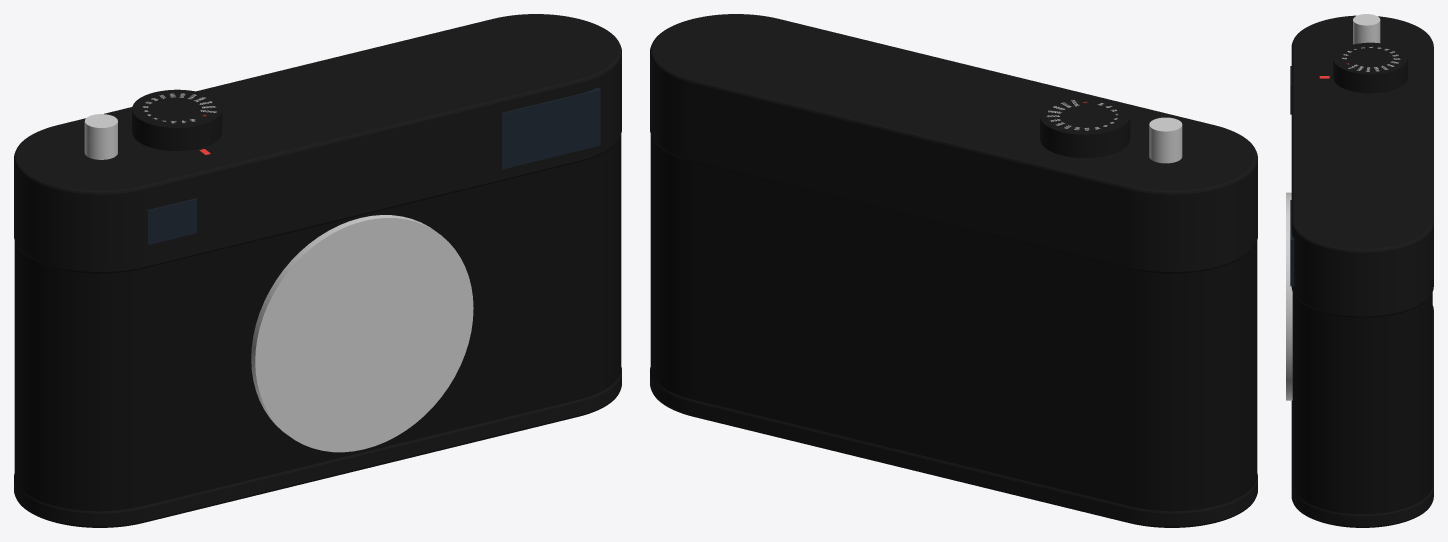
Rendered from body-m11.glb.
3 renders of one model, left to right at view 1: azimuth 30°, elevation 25°; view 2: azimuth 150°, elevation 25°; view 3: azimuth 270°, elevation 25°, orthographic. The views are drawn at different scales.
Visible parts, largest first — view 1: body, shutter-dial; view 2: body, shutter-dial; view 3: body, shutter-dial.
Part boxes in pixels (x1=…): body: x1=14, y1=14, x2=621, y2=527; shutter-dial: x1=132, y1=89, x2=222, y2=151; body: x1=650, y1=14, x2=1257, y2=527; shutter-dial: x1=1040, y1=96, x2=1130, y2=157; body: x1=1286, y1=14, x2=1433, y2=527; shutter-dial: x1=1333, y1=42, x2=1407, y2=93.
Bounding box in the file's own units: 0.142 × 0.0856 × 0.0376.
Materials: 8 (1 with a texture image).
